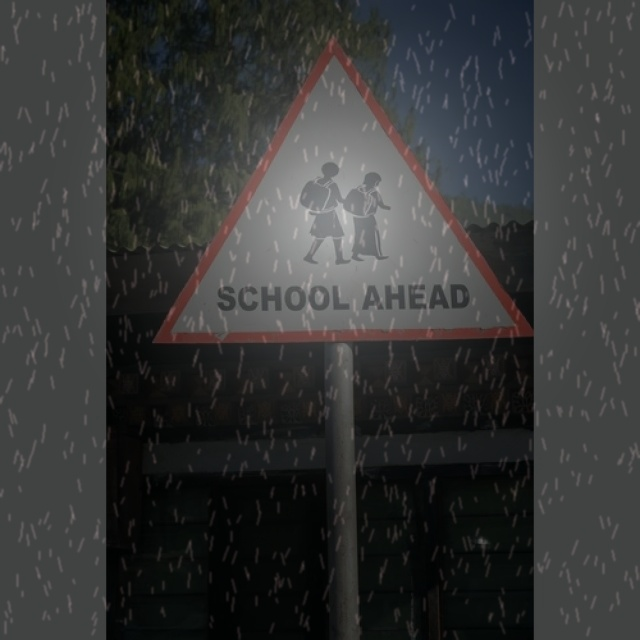School_Ahead: (166, 48, 513, 354)
